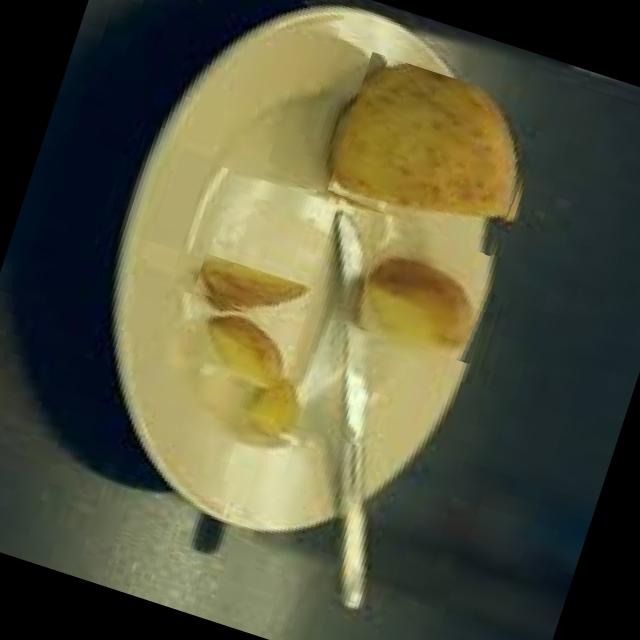Organic: (322, 52, 550, 260), (351, 250, 501, 366), (183, 311, 303, 399), (190, 254, 312, 334), (240, 372, 305, 442)
